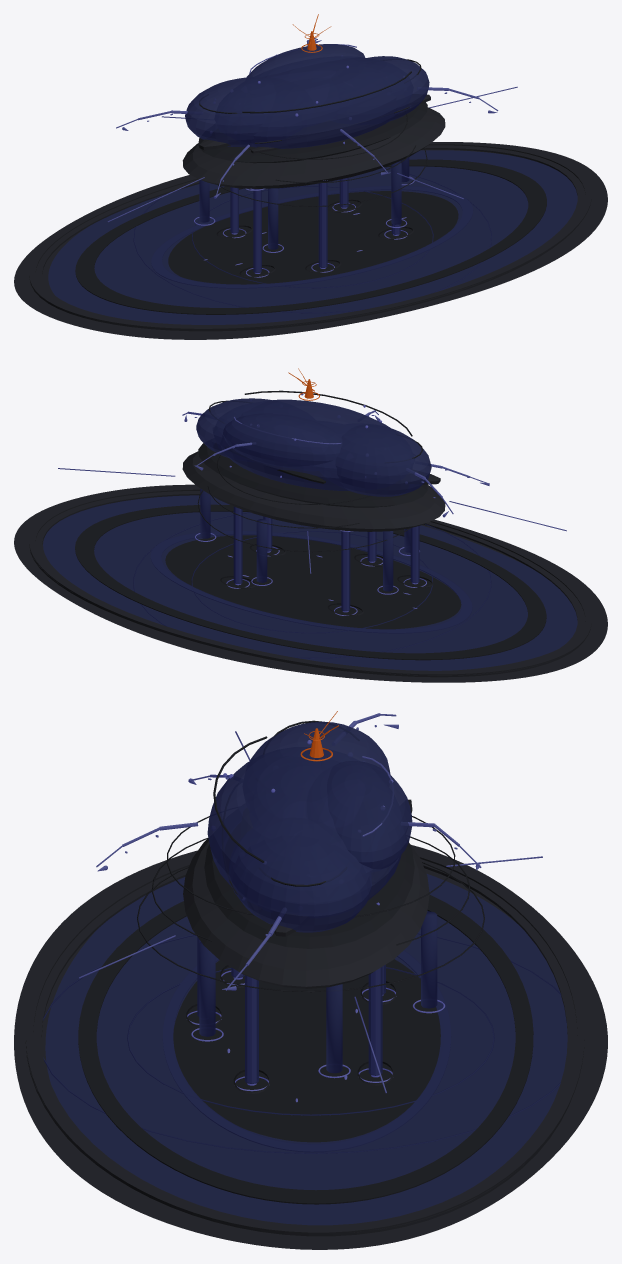
File: recovery-ext-v2-draft-s73.glb
3 renders of one model, top to bottom at view 1: azimuth 30°, elevation 25°; view 2: azimuth 150°, elevation 25°; view 3: azimuth 270°, elevation 25°, orthographic. The views are drawn at different scales.
Parts seen in each view (by area): view 1: recovery_ext_glass_packed, recovery_ext_base_packed, recovery_ext_detail_packed, recovery_s73_glass_polish_mesh, recovery_ext_emissive_packed, recovery_ext_accent_packed, recovery_s73_detail_polish_mesh, recovery_s73_accent_polish_mesh; view 2: recovery_ext_glass_packed, recovery_ext_base_packed, recovery_ext_detail_packed, recovery_s73_glass_polish_mesh, recovery_ext_emissive_packed, recovery_s73_detail_polish_mesh, recovery_ext_accent_packed, recovery_s73_accent_polish_mesh; view 3: recovery_ext_base_packed, recovery_ext_glass_packed, recovery_ext_detail_packed, recovery_s73_glass_polish_mesh, recovery_s73_detail_polish_mesh, recovery_ext_emissive_packed, recovery_ext_accent_packed, recovery_s73_accent_polish_mesh.
Boxes of the visible parts, x1,y1,x2,y2 form: recovery_ext_glass_packed: [48, 44, 577, 324]; recovery_ext_base_packed: [14, 94, 607, 339]; recovery_ext_detail_packed: [75, 59, 546, 314]; recovery_s73_glass_polish_mesh: [133, 157, 491, 313]; recovery_ext_emissive_packed: [204, 46, 407, 277]; recovery_ext_accent_packed: [116, 38, 498, 198]; recovery_s73_detail_polish_mesh: [218, 112, 427, 206]; recovery_s73_accent_polish_mesh: [107, 86, 517, 222]; recovery_ext_glass_packed: [43, 398, 577, 670]; recovery_ext_base_packed: [14, 451, 607, 682]; recovery_ext_detail_packed: [75, 390, 546, 660]; recovery_s73_glass_polish_mesh: [133, 488, 491, 658]; recovery_ext_emissive_packed: [226, 393, 426, 615]; recovery_s73_detail_polish_mesh: [197, 455, 410, 552]; recovery_ext_accent_packed: [182, 410, 489, 517]; recovery_s73_accent_polish_mesh: [58, 468, 566, 573]; recovery_ext_base_packed: [14, 795, 607, 1249]; recovery_ext_glass_packed: [45, 721, 567, 1225]; recovery_ext_detail_packed: [78, 720, 533, 1204]; recovery_s73_glass_polish_mesh: [43, 911, 561, 1153]; recovery_s73_detail_polish_mesh: [137, 816, 484, 992]; recovery_ext_emissive_packed: [187, 740, 396, 1102]; recovery_ext_accent_packed: [96, 713, 481, 990]; recovery_s73_accent_polish_mesh: [79, 731, 542, 1093].
Size of the model in its own units: 21.72 by 7.96 by 13.1.
